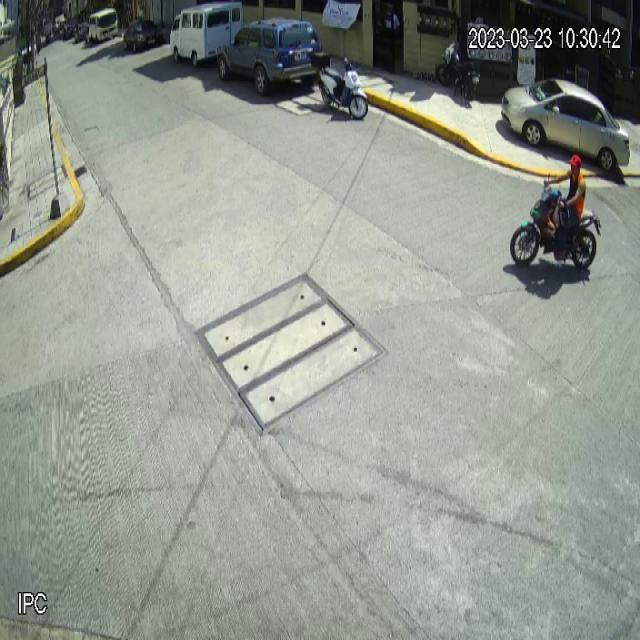Car: (501, 77, 632, 176), (215, 14, 322, 97)
Motorcycle: (510, 175, 603, 274), (311, 51, 369, 120)
Van: (169, 0, 243, 68)
